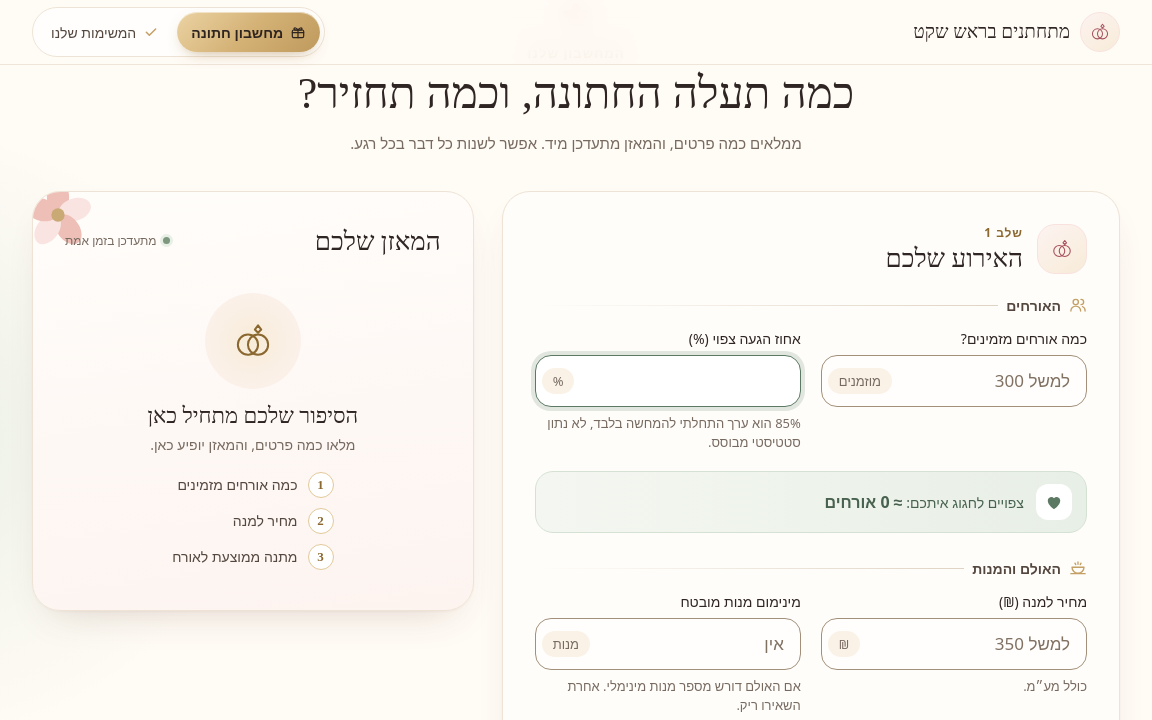
it: Event details form › rejects an attendance rate above 100%
Earlier steps of the test are not shown.
(page scrolled)
In the field labelled "אחוז הגעה צפוי (%)": (687, 381) [574,358,800,404], type "120"
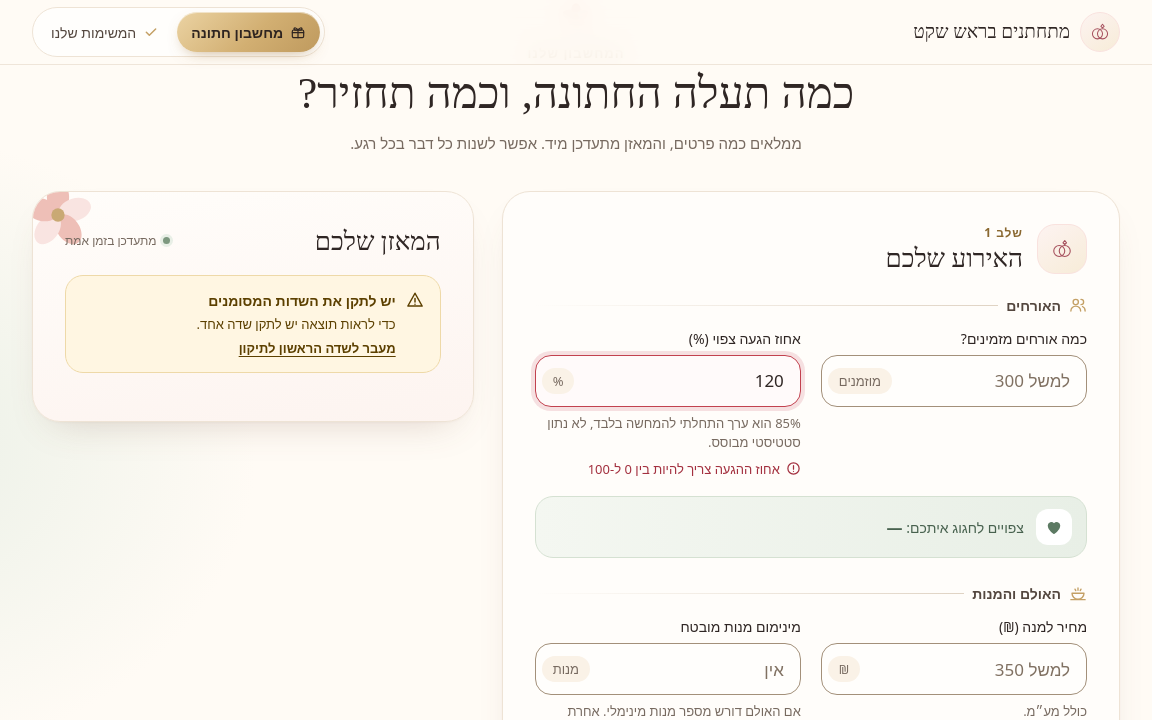
Result: the text "אחוז ההגעה צריך להיות בין 0 ל-100" is shown at [588,460,780,478]
Result: the text "צפויים לחגוג איתכם: —" is shown at [886,516,1024,538]
